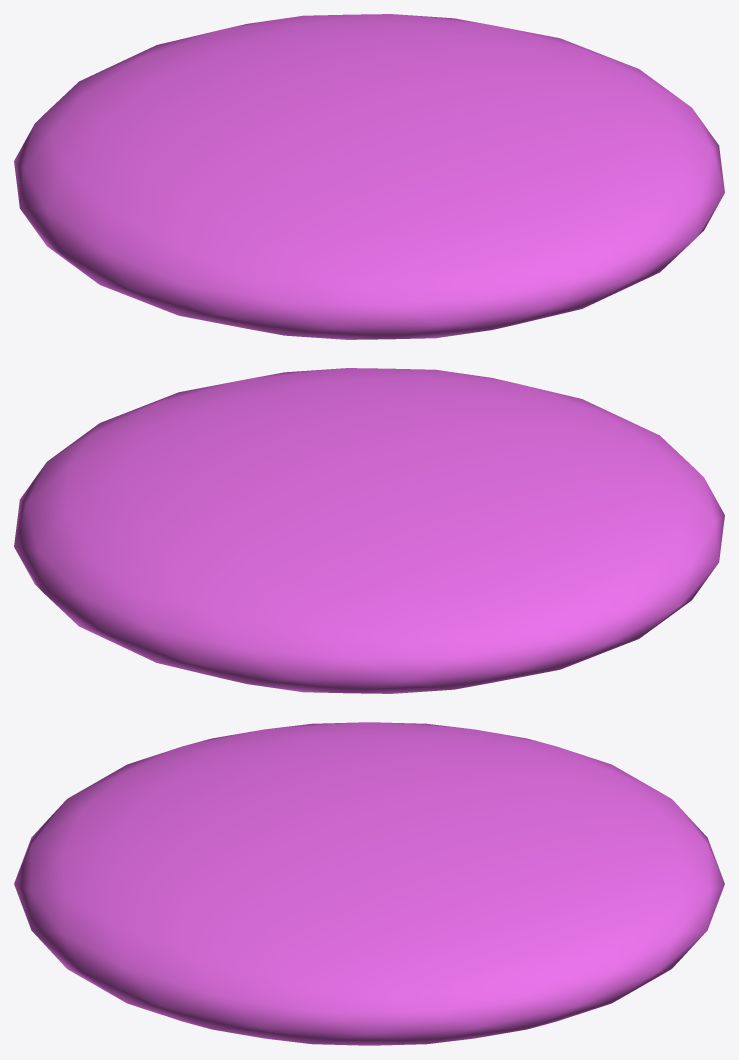
Rendered from bonbon.fbx.
The picture shows the model from 3 angles, top to bottom: view 1: azimuth 30°, elevation 25°; view 2: azimuth 150°, elevation 25°; view 3: azimuth 270°, elevation 25°; orthographic projection.
Parts seen in each view (by area): view 1: bonbon; view 2: bonbon; view 3: bonbon.
Boxes of the visible parts, x1,y1,x2,y2 form: bonbon: (14, 14, 724, 339); bonbon: (14, 368, 724, 693); bonbon: (14, 722, 724, 1045).
Bounding box in the file's own units: 7.65 × 1.54 × 7.65.
